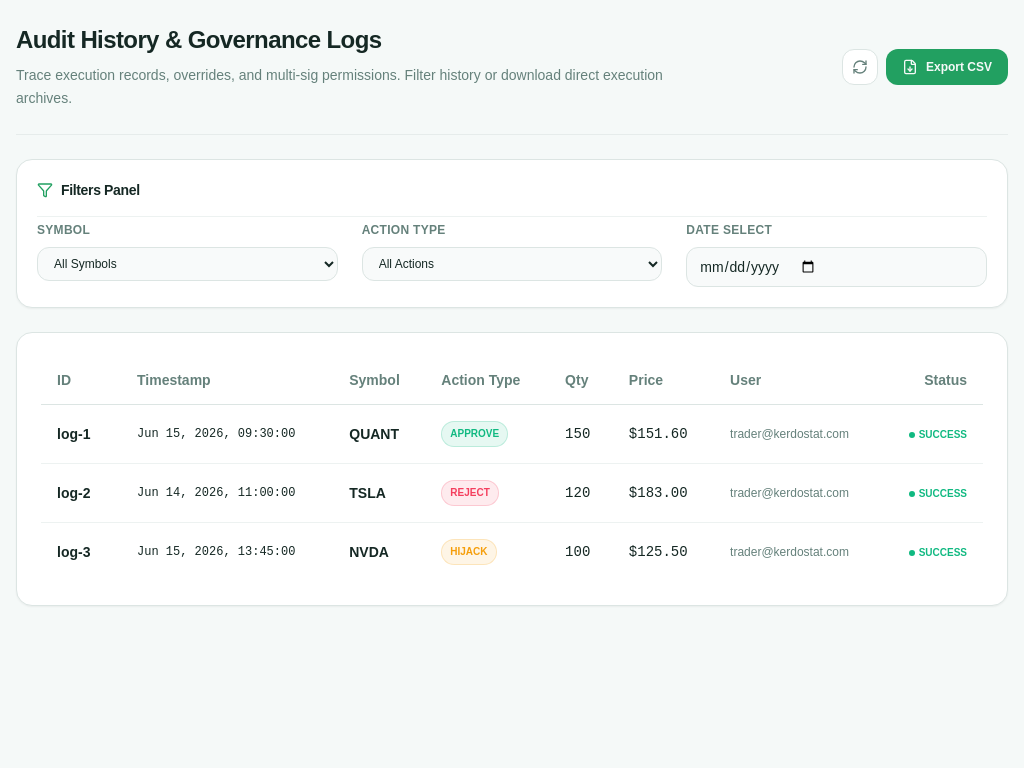
Test: AuditLogPage Component › filters logs by date correctly
Expected: the number of rows with test id "log-row" is 3, [41, 404, 983, 464]; [41, 464, 983, 522]; [41, 522, 983, 581]
Type "2026-06-14" into the date field with test id "filter-date" at (837, 266), box [686, 246, 987, 286]
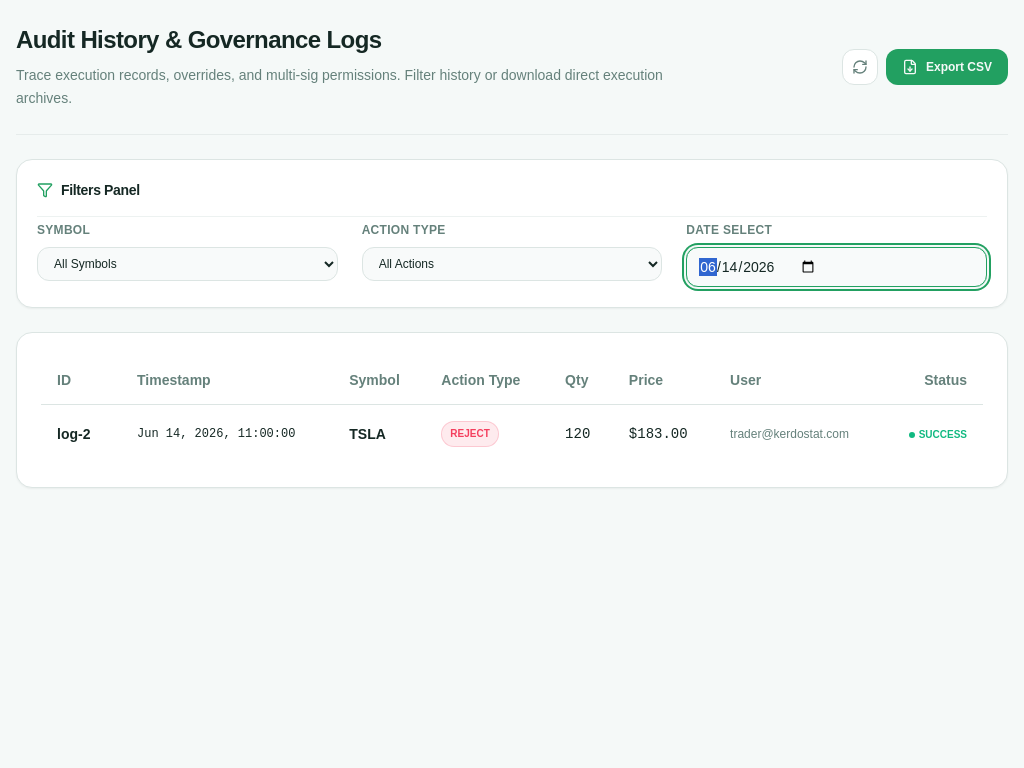
Now the number of rows with test id "log-row" is 1, box [41, 404, 983, 463]
Now the text "TSLA" is shown 2 times
